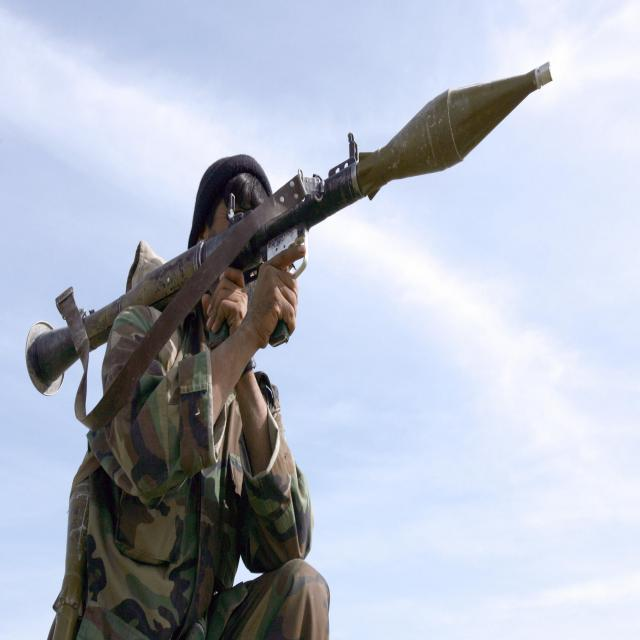bazooka: (14, 15, 599, 442)
